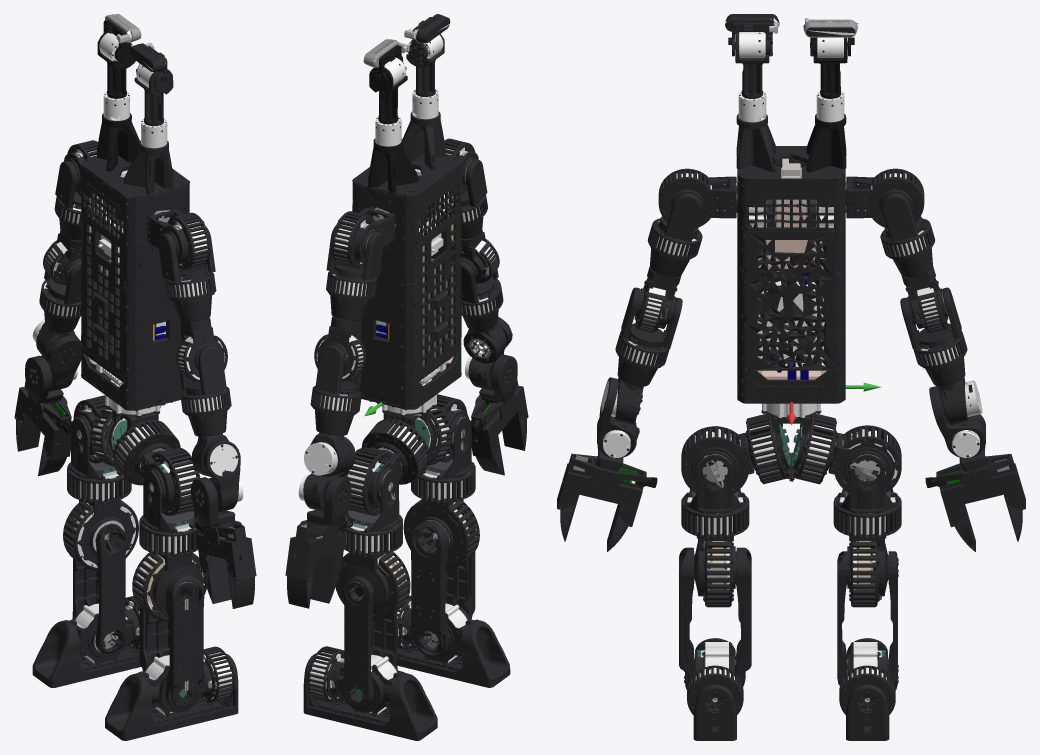
Rendered from robot.glb.
The picture shows the model from 3 angles, left to right: view 1: azimuth 30°, elevation 25°; view 2: azimuth 150°, elevation 25°; view 3: azimuth 270°, elevation 25°; orthographic projection. The views are drawn at different scales.
Visible parts, largest first — view 1: CNC_body02_side_plate#1, 3DP_body09_back_plate_removable#0, 3DP_legP10_shank_cover_b#0, 3DP_body08_back_plate#0, CNC_leg10_knee_output_shank#1, 3DP_leg19_sole#0, 3DP_leg19_sole#1, hardware:0, 3DP_cam01_gimbal_mount#0, vendor:gimbal_mount_1#0, CNC_body03_top_plate#0, CNC_leg09_knee_motor_back_cover#0 (+64 smaller); view 2: CNC_body02_side_plate#0, 3DP_body09_back_plate_removable#0, 3DP_body08_back_plate#0, 3DP_legP09_shank_cover_a#0, 3DP_leg19_sole#1, 3DP_leg19_sole#0, CNC_leg11_knee_support_shank#1, hardware:0, vendor:gimbal_mount_1#0, CNC_leg09_knee_motor_back_cover#1, 3DP_cam01_gimbal_mount#0, CNC_leg14_ankle_pitch_back#1 (+61 smaller); view 3: 3DP_body07_front_plate_removable#0, 3DP_body06_front_plate#0, hardware:0, CNC_body04_front_plate#3, CNC_leg06_hip_roll_output_shaft#0, CNC_body04_front_plate#0, 3DP_cam01_gimbal_mount#0, vendor:gimbal_mount_1#0, CNC_leg06_hip_roll_output_shaft#1, 3DP_legP02_hip3_cover_b#1, 3DP_legP09_shank_cover_a#0, 3DP_legP08_knee_cover_b#0 (+37 smaller).
Boxes of the visible parts, box(x1,y1,x2,y2) form: CNC_body02_side_plate#1: box(134, 186, 186, 408); 3DP_body09_back_plate_removable#0: box(81, 215, 126, 377); 3DP_legP10_shank_cover_b#0: box(165, 573, 204, 711); 3DP_body08_back_plate#0: box(81, 185, 133, 384); CNC_leg10_knee_output_shank#1: box(95, 523, 126, 653); 3DP_leg19_sole#0: box(105, 673, 238, 740); 3DP_leg19_sole#1: box(32, 620, 141, 687); hardware:0: box(39, 42, 234, 716); 3DP_cam01_gimbal_mount#0: box(123, 140, 174, 194); vendor:gimbal_mount_1#0: box(97, 113, 139, 171); CNC_body03_top_plate#0: box(81, 155, 189, 198); CNC_leg09_knee_motor_back_cover#0: box(147, 553, 204, 617); CNC_body02_side_plate#0: box(355, 184, 408, 407); 3DP_body09_back_plate_removable#0: box(415, 213, 461, 376); 3DP_body08_back_plate#0: box(408, 184, 461, 383); 3DP_legP09_shank_cover_a#0: box(410, 520, 449, 658); 3DP_leg19_sole#1: box(303, 672, 437, 740); 3DP_leg19_sole#0: box(397, 619, 510, 687); CNC_leg11_knee_support_shank#1: box(343, 576, 374, 708); hardware:0: box(305, 19, 498, 716); vendor:gimbal_mount_1#0: box(368, 138, 418, 192); CNC_leg09_knee_motor_back_cover#1: box(337, 552, 394, 617); 3DP_cam01_gimbal_mount#0: box(402, 111, 445, 169); CNC_leg14_ankle_pitch_back#1: box(326, 658, 398, 716); 3DP_body07_front_plate_removable#0: box(744, 231, 837, 370); 3DP_body06_front_plate#0: box(738, 194, 844, 386); hardware:0: box(604, 27, 982, 710); CNC_body04_front_plate#3: box(739, 178, 843, 204); CNC_leg06_hip_roll_output_shaft#0: box(837, 454, 897, 513); CNC_body04_front_plate#0: box(739, 373, 843, 400); 3DP_cam01_gimbal_mount#0: box(736, 114, 776, 172); vendor:gimbal_mount_1#0: box(806, 114, 846, 172); CNC_leg06_hip_roll_output_shaft#1: box(685, 454, 745, 513); 3DP_legP02_hip3_cover_b#1: box(681, 501, 749, 538); 3DP_legP09_shank_cover_a#0: box(736, 547, 751, 684); 3DP_legP08_knee_cover_b#0: box(705, 541, 731, 607).
Size of the model in its own units: 0.2675 by 1.27 by 0.7785.
